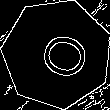O_W: (26, 25, 88, 82)
